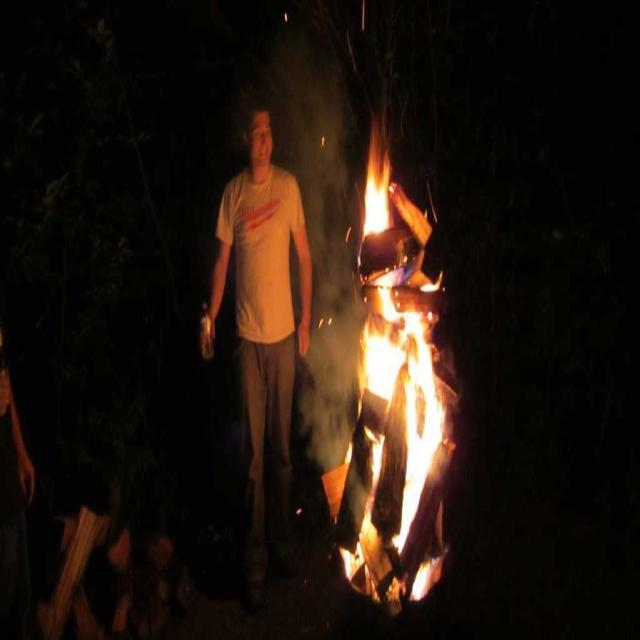Fire: (408, 375, 441, 455), (364, 332, 398, 398), (361, 161, 392, 232), (400, 464, 430, 515)
